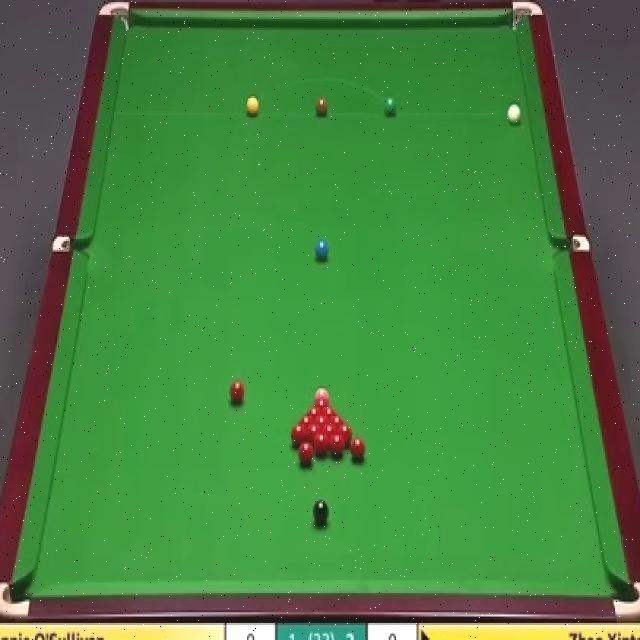black-ball: (311, 498, 330, 526)
blue-ball: (314, 238, 329, 262)
brown-ball: (314, 94, 329, 117)
green-ball: (382, 96, 398, 118)
pink-ball: (313, 386, 330, 402)
red-ball: (228, 378, 247, 405), (350, 436, 367, 464), (289, 423, 309, 445), (298, 441, 315, 464), (330, 433, 345, 457), (314, 433, 330, 454), (338, 423, 352, 442), (325, 424, 338, 444), (308, 423, 323, 440), (312, 399, 330, 408), (329, 415, 346, 424), (305, 408, 322, 417), (299, 415, 315, 424), (315, 416, 331, 425), (322, 407, 336, 416)
white-ball: (506, 100, 523, 128)
yellow-ball: (245, 94, 260, 116)
